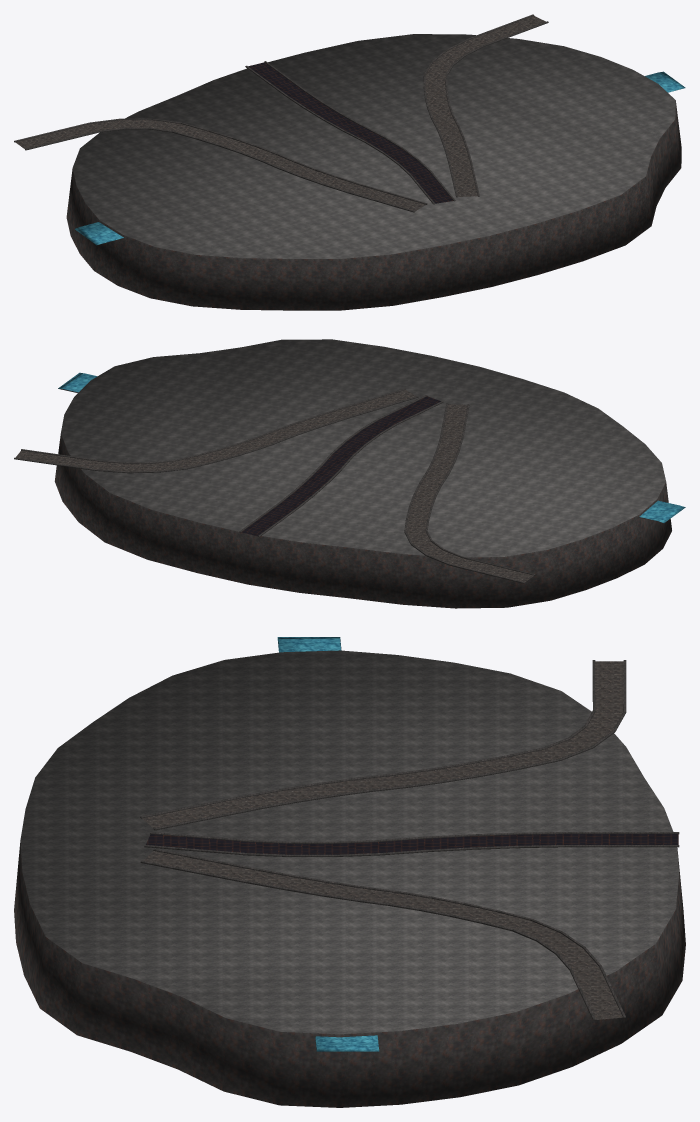
The model's file is 13_BramyHadesu_teren.glb.
The picture shows the model from 3 angles, top to bottom: view 1: azimuth 30°, elevation 25°; view 2: azimuth 150°, elevation 25°; view 3: azimuth 270°, elevation 25°; orthographic projection. The views are drawn at different scales.
Parts seen in each view (by area): view 1: cavern, path_0.012, path_2.004, path_1.007, styx; view 2: cavern, path_0.012, path_2.004, path_1.007, styx; view 3: cavern, path_0.012, path_2.004, path_1.007, styx.
Part boxes in pixels (box(x1,y1,x2,y2)): cavern: box(66, 34, 681, 310); path_0.012: box(15, 120, 425, 210); path_2.004: box(425, 16, 545, 196); path_1.007: box(248, 62, 453, 203); styx: box(75, 71, 685, 245); cavern: box(54, 339, 671, 608); path_0.012: box(406, 404, 533, 582); path_2.004: box(16, 390, 415, 471); path_1.007: box(241, 396, 440, 536); styx: box(58, 372, 685, 523); cavern: box(14, 650, 685, 1107); path_0.012: box(142, 661, 623, 828); path_2.004: box(143, 851, 622, 1019); path_1.007: box(146, 834, 678, 854); styx: box(277, 637, 379, 1051).
Size of what is drawn, in the model's own units: 255 by 20.44 by 175.
Materials: 6 (6 with a texture image).
